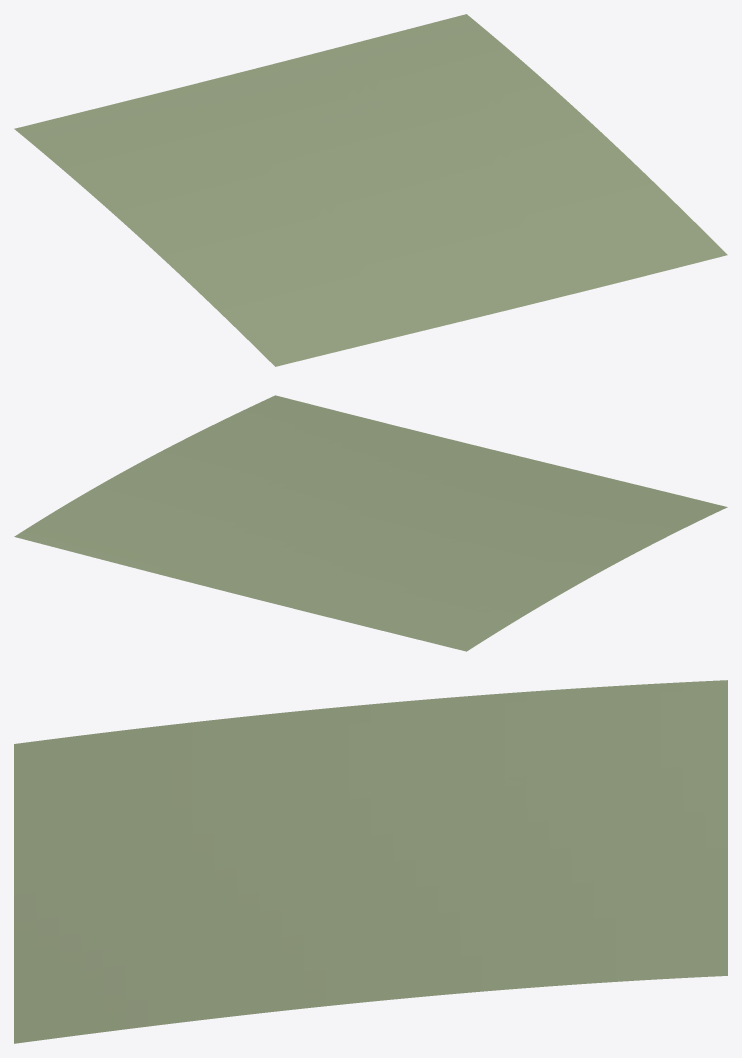
The model's file is desert-31-9.glb.
3 renders of one model, top to bottom at view 1: azimuth 30°, elevation 25°; view 2: azimuth 150°, elevation 25°; view 3: azimuth 270°, elevation 25°, orthographic. The views are drawn at different scales.
Parts seen in each view (by area): view 1: desert-31-9; view 2: desert-31-9; view 3: desert-31-9.
Boxes of the visible parts, <box> form: desert-31-9: <box>14,14,727,366</box>; desert-31-9: <box>14,395,727,651</box>; desert-31-9: <box>14,680,727,1043</box>.
Bounding box in the file's own units: 512 × 55.31 × 512.
